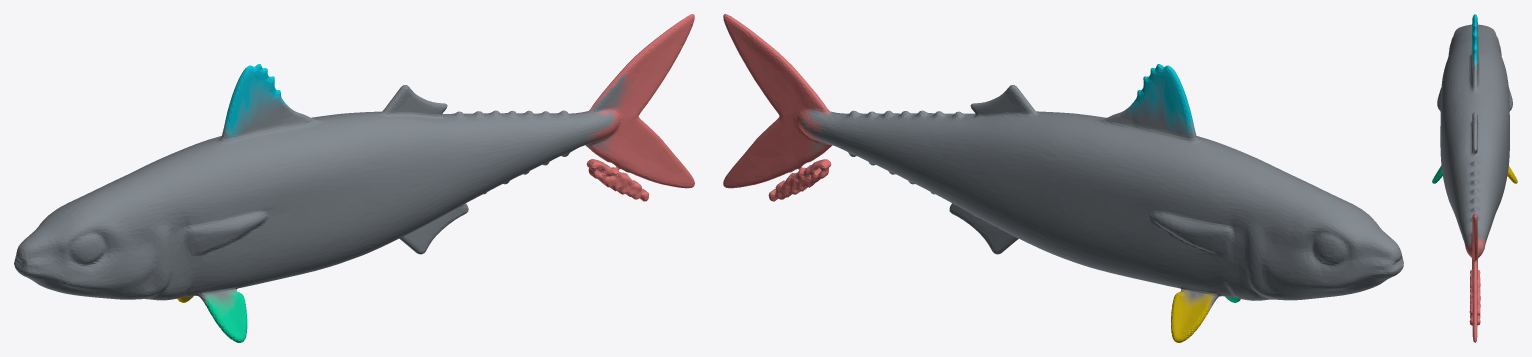
Rendered from 01_segmented_mesh.glb.
3 renders of one model, left to right at view 1: azimuth 30°, elevation 25°; view 2: azimuth 150°, elevation 25°; view 3: azimuth 270°, elevation 25°, orthographic. The views are drawn at different scales.
Visible parts, largest first — view 1: world; view 2: world; view 3: world.
Boxes of the visible parts, left/top/right/bottom form: world: left=14, top=14, right=694, bottom=342; world: left=723, top=14, right=1403, bottom=342; world: left=1432, top=14, right=1517, bottom=342.
Size of the model in its own units: 1.91 by 0.6697 by 0.285.
